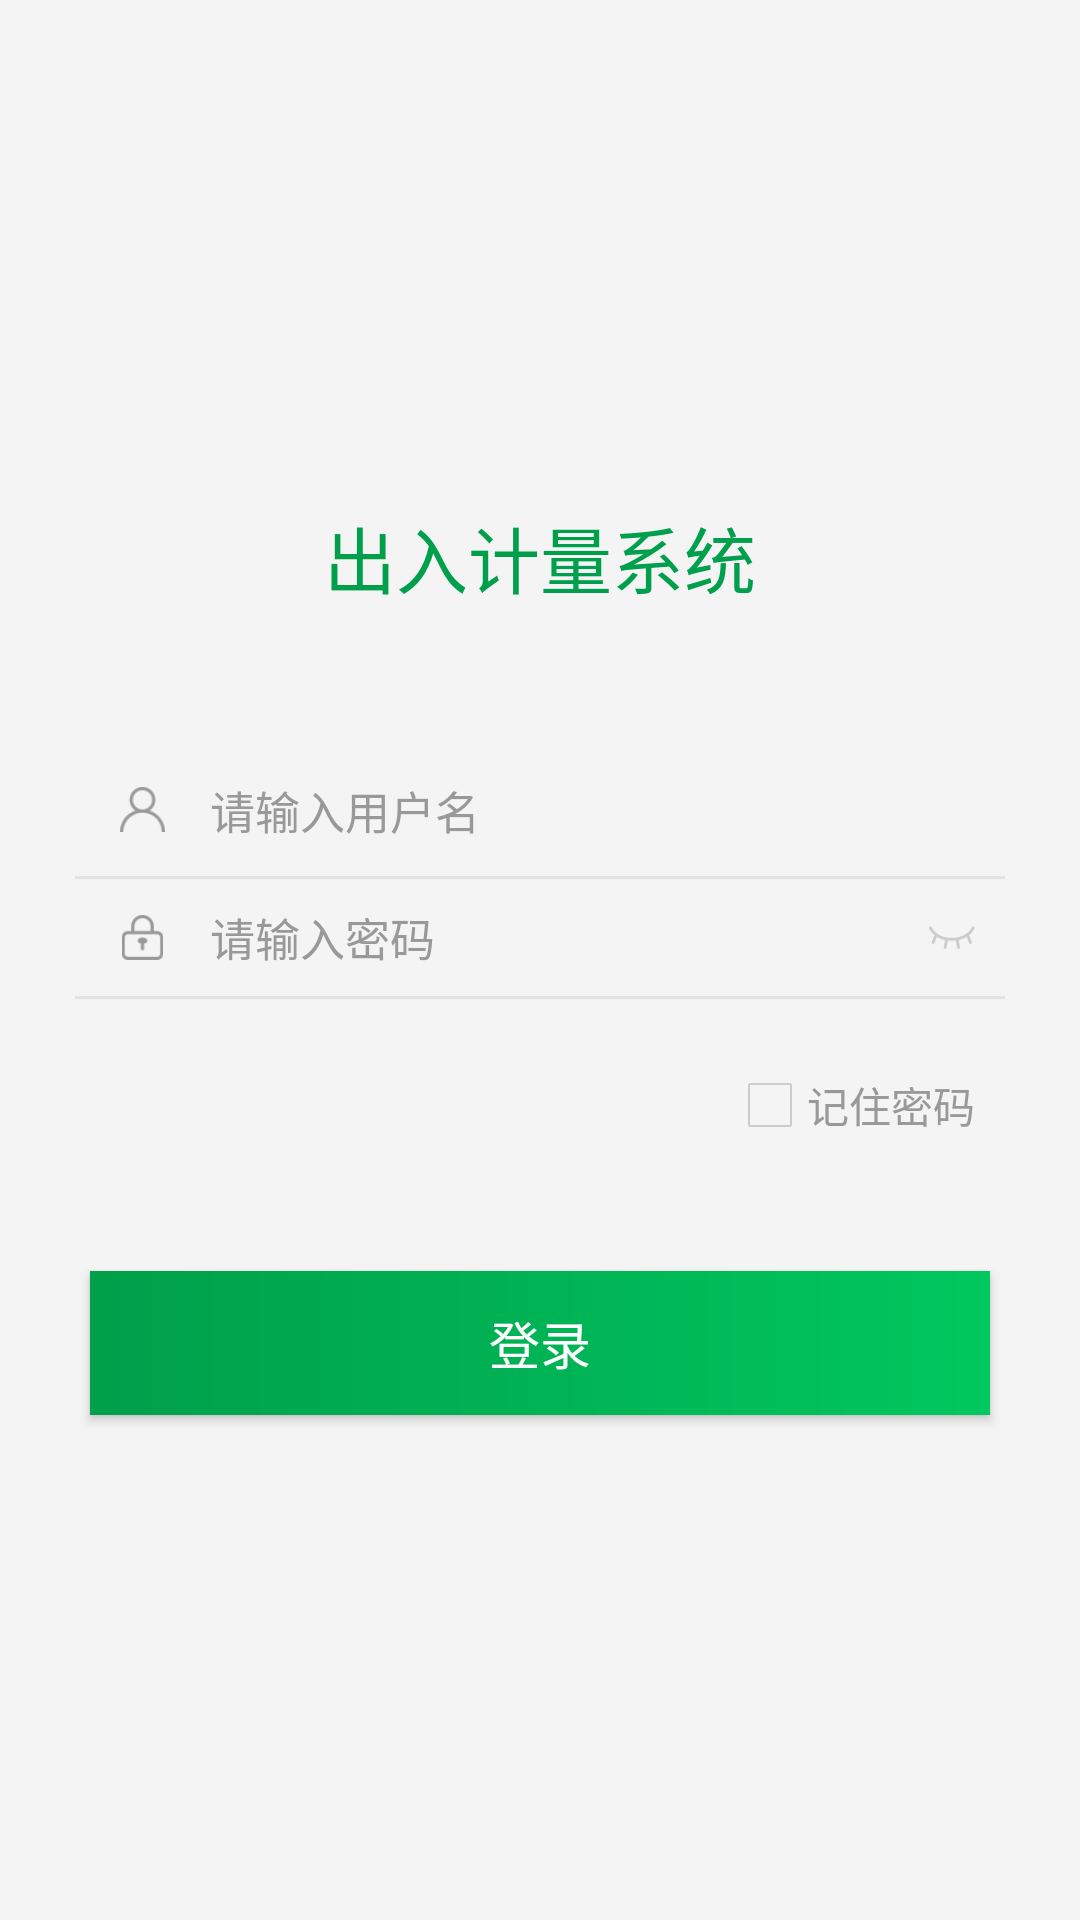

Screen size 1080px×1920px. Icon name, then its box in pixels as BBox(x1, y1, x2, y2):
login pwd: BBox(122, 915, 163, 960)
login pwd see: BBox(929, 927, 974, 949)
login username: BBox(120, 787, 165, 832)
